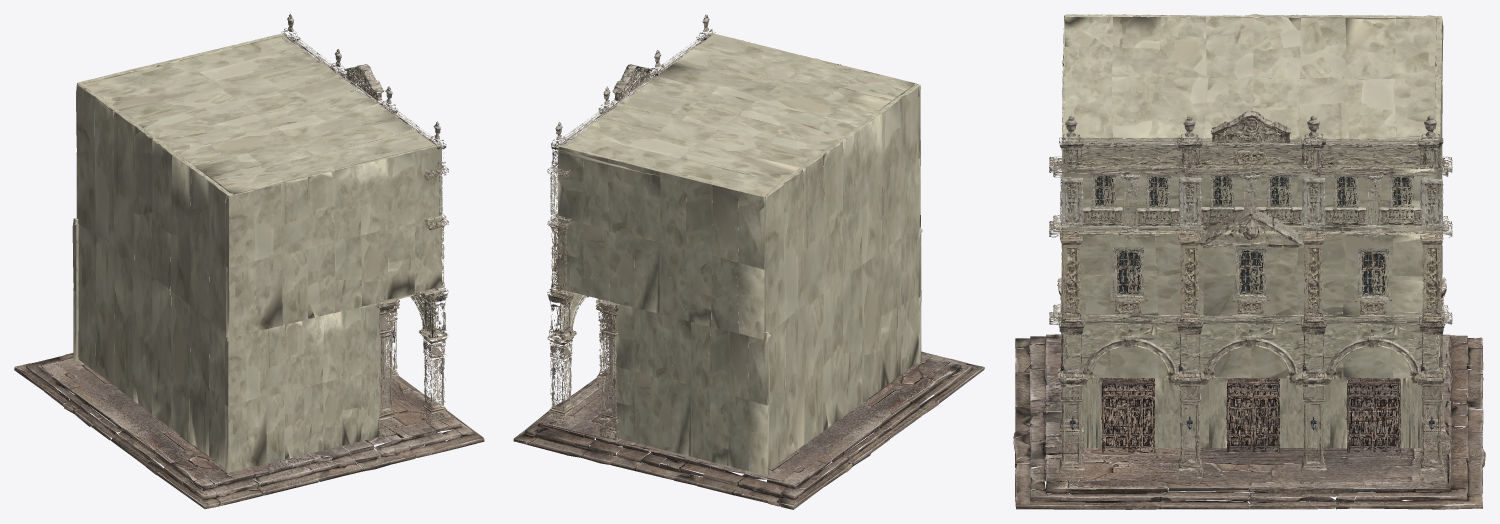
3 views of the same model, side by side, from view 1: azimuth 30°, elevation 25°; view 2: azimuth 150°, elevation 25°; view 3: azimuth 270°, elevation 25° (orthographic). The views are drawn at different scales.
Visible parts, largest first — view 1: SM_MERGED_BP_building_C_1; view 2: SM_MERGED_BP_building_C_1; view 3: SM_MERGED_BP_building_C_1.
Boxes of the visible parts, <box> form: SM_MERGED_BP_building_C_1: <box>14,14,484,508</box>; SM_MERGED_BP_building_C_1: <box>513,14,984,509</box>; SM_MERGED_BP_building_C_1: <box>1013,14,1485,509</box>.
Bounding box in the file's own units: 14.7 × 15.55 × 17.38.
15 materials, 15 textured.
